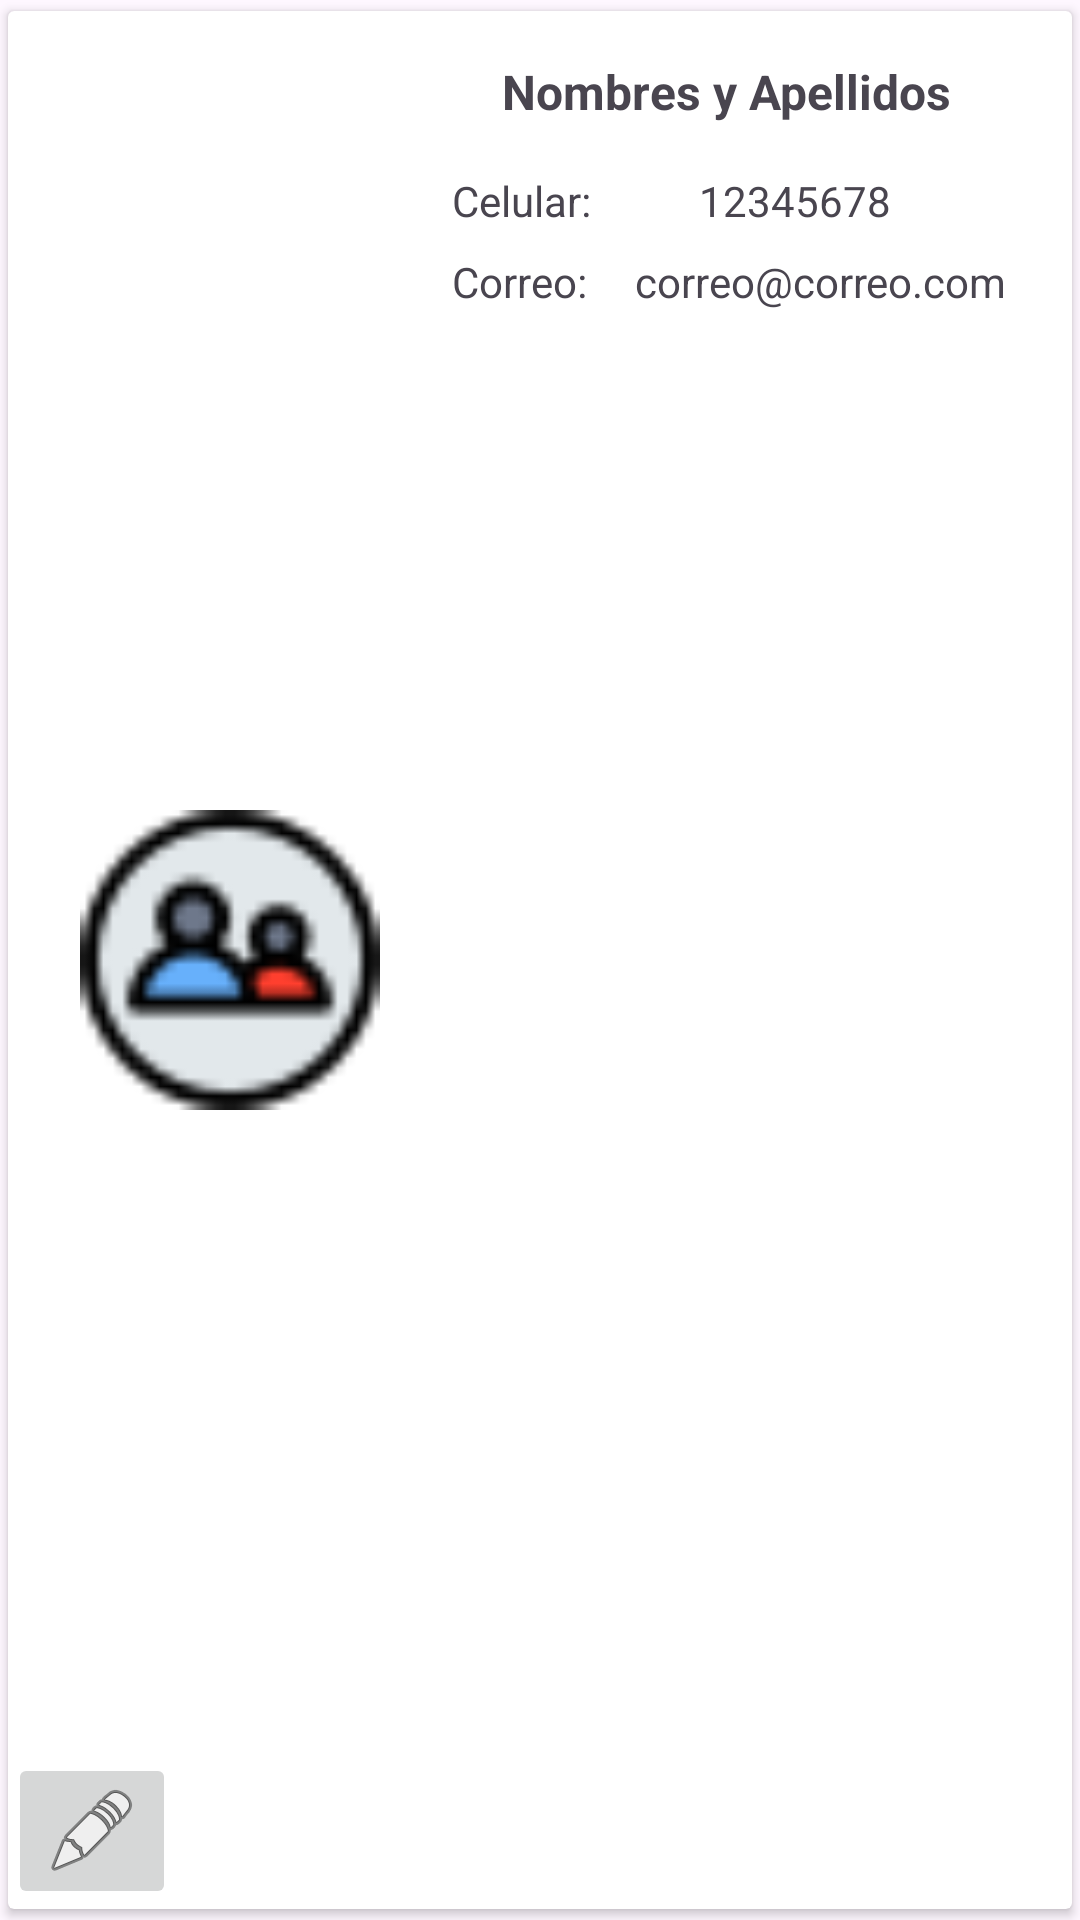

Point at icon controls on the screen. Image size 1080 x 1920, points as (x,y).
edit: (92,1831)
gente: (230,960)
